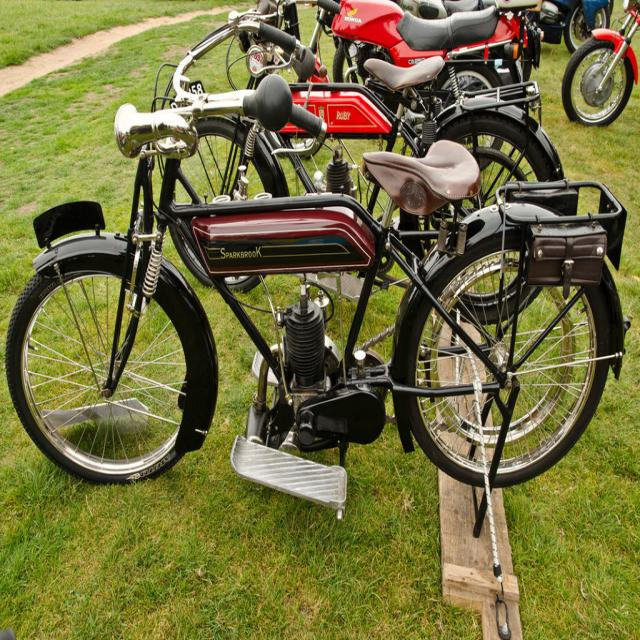Motorbikes: (2, 26, 630, 511)
